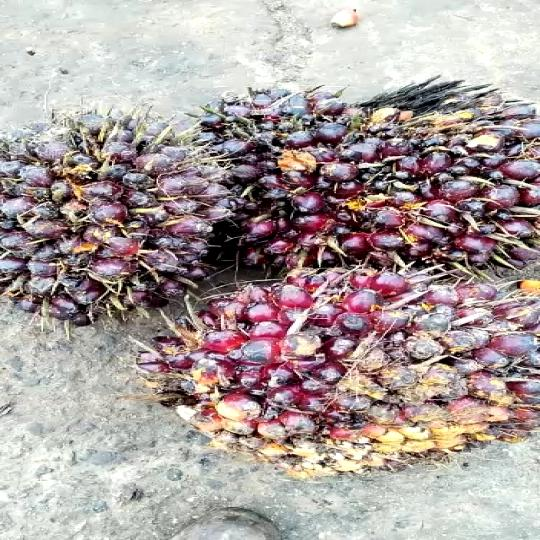kurang masak: (198, 241, 540, 463), (179, 75, 540, 254), (0, 99, 228, 316)
